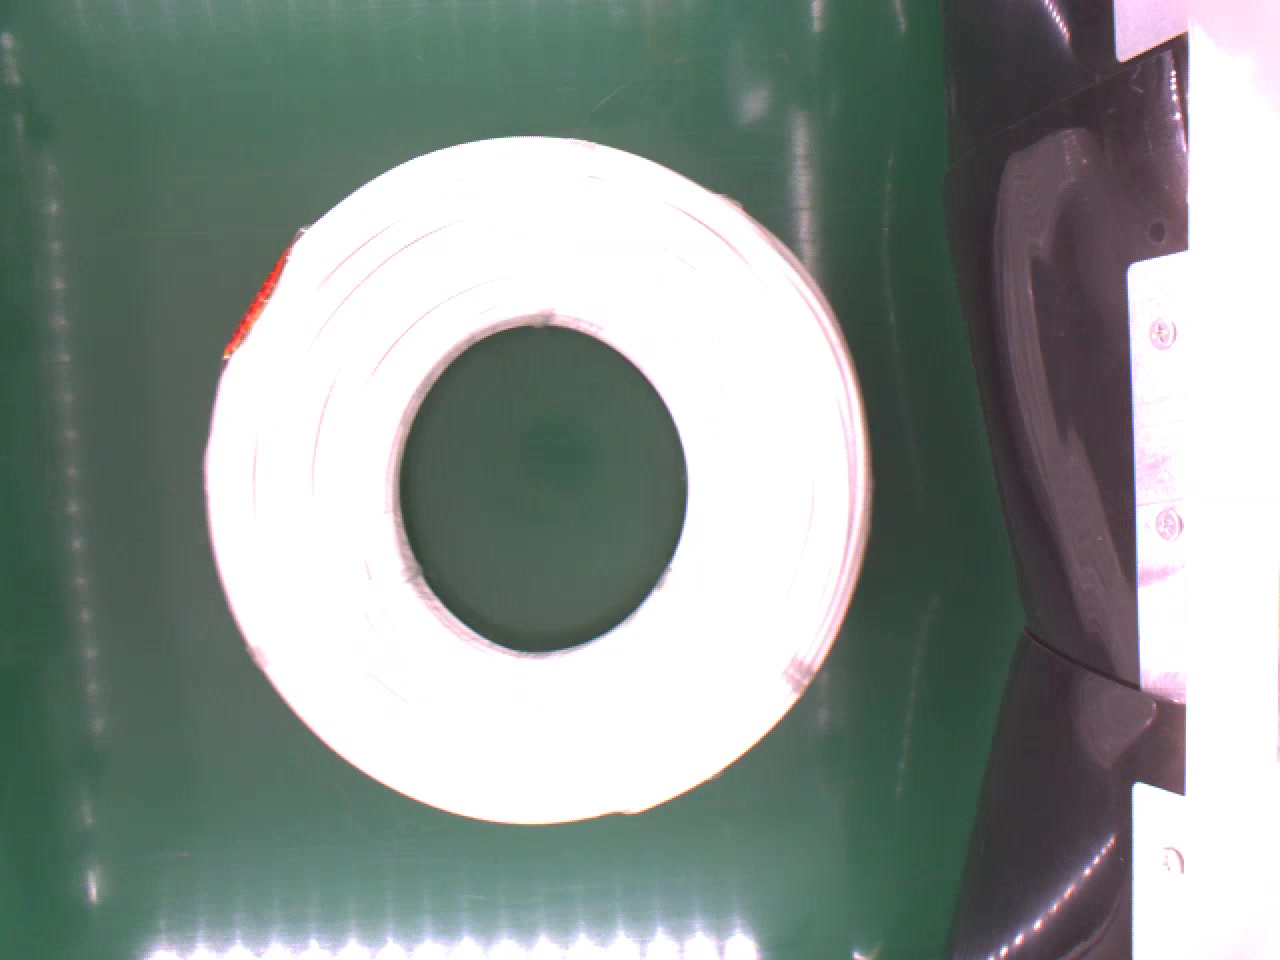white: (187, 128, 887, 830)
